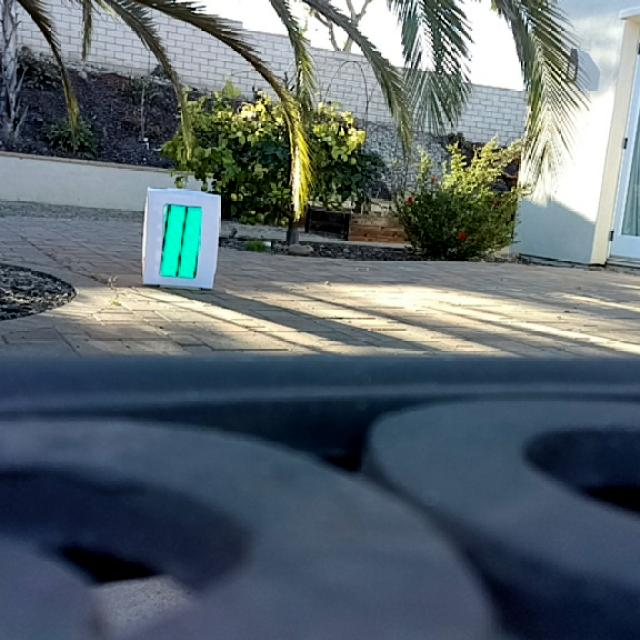led: (159, 204, 201, 278)
